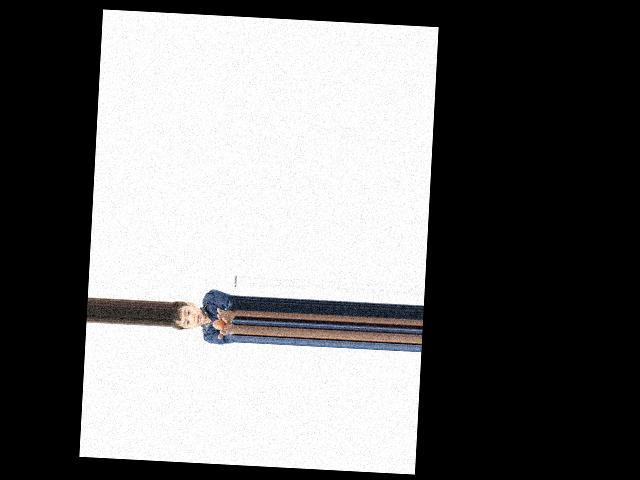egg: (212, 318, 226, 329)
